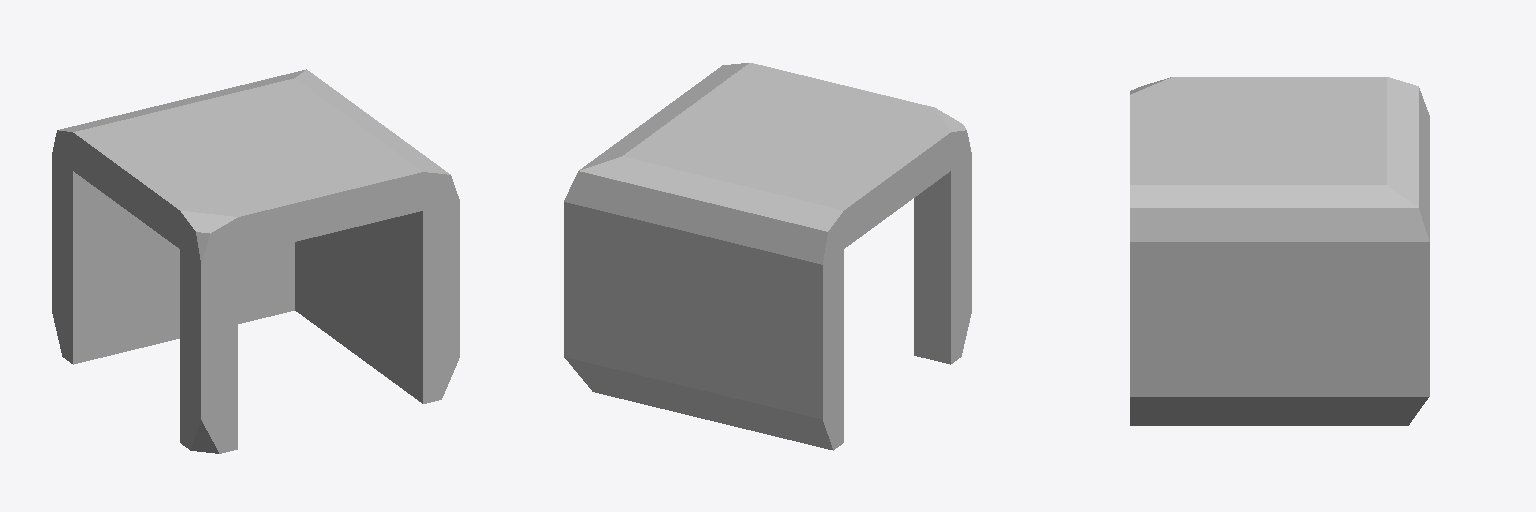
The model's file is cover-corner.obj.
3 renders of one model, left to right at view 1: azimuth 30°, elevation 25°; view 2: azimuth 150°, elevation 25°; view 3: azimuth 270°, elevation 25°, orthographic.
Visible parts, largest first — view 1: cover-corner; view 2: cover-corner; view 3: cover-corner.
Part boxes in pixels (x1,y1,x2,y2): cover-corner: (52, 69, 459, 453); cover-corner: (564, 63, 971, 450); cover-corner: (1130, 77, 1429, 425).
Size of the model in its own units: 1.4 by 1.2 by 1.4.